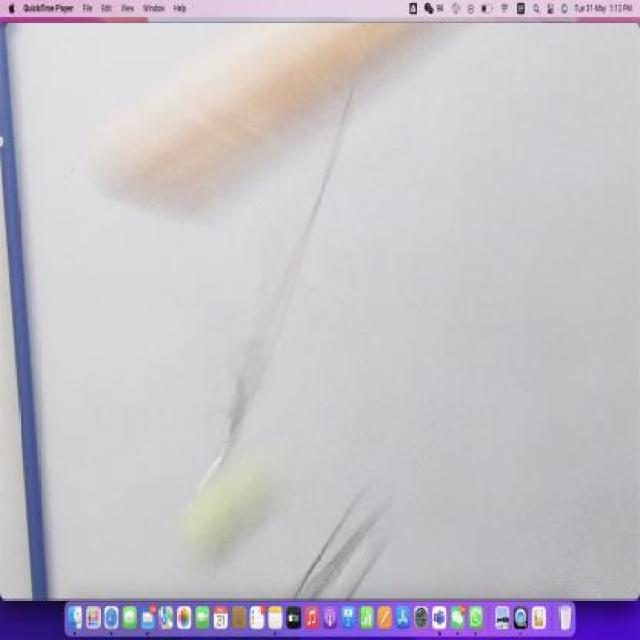baseball: (178, 452, 284, 568)
